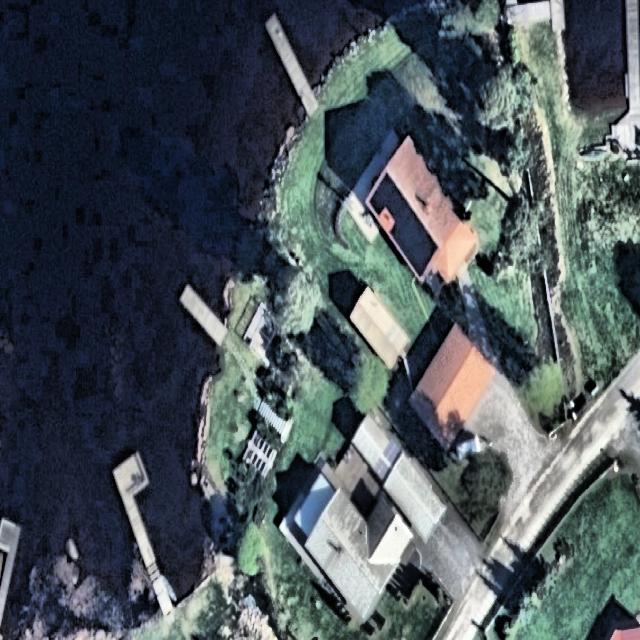roof_pv: (398, 205, 440, 279), (369, 173, 407, 232)
